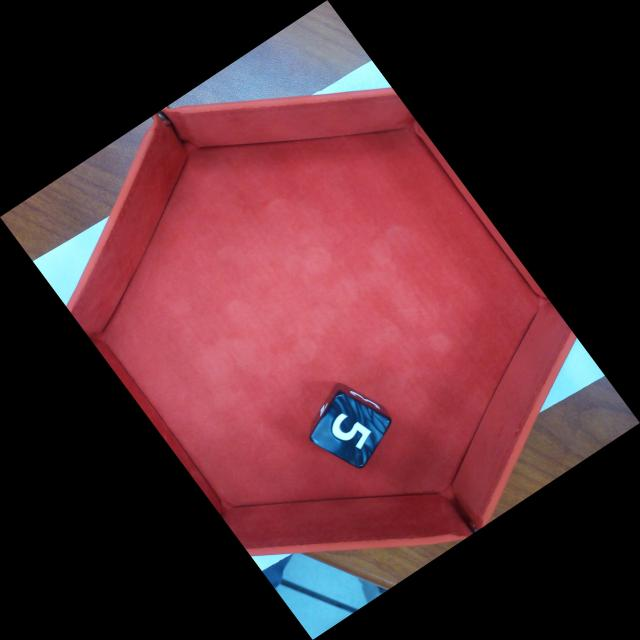dice: (315, 394, 389, 468)
